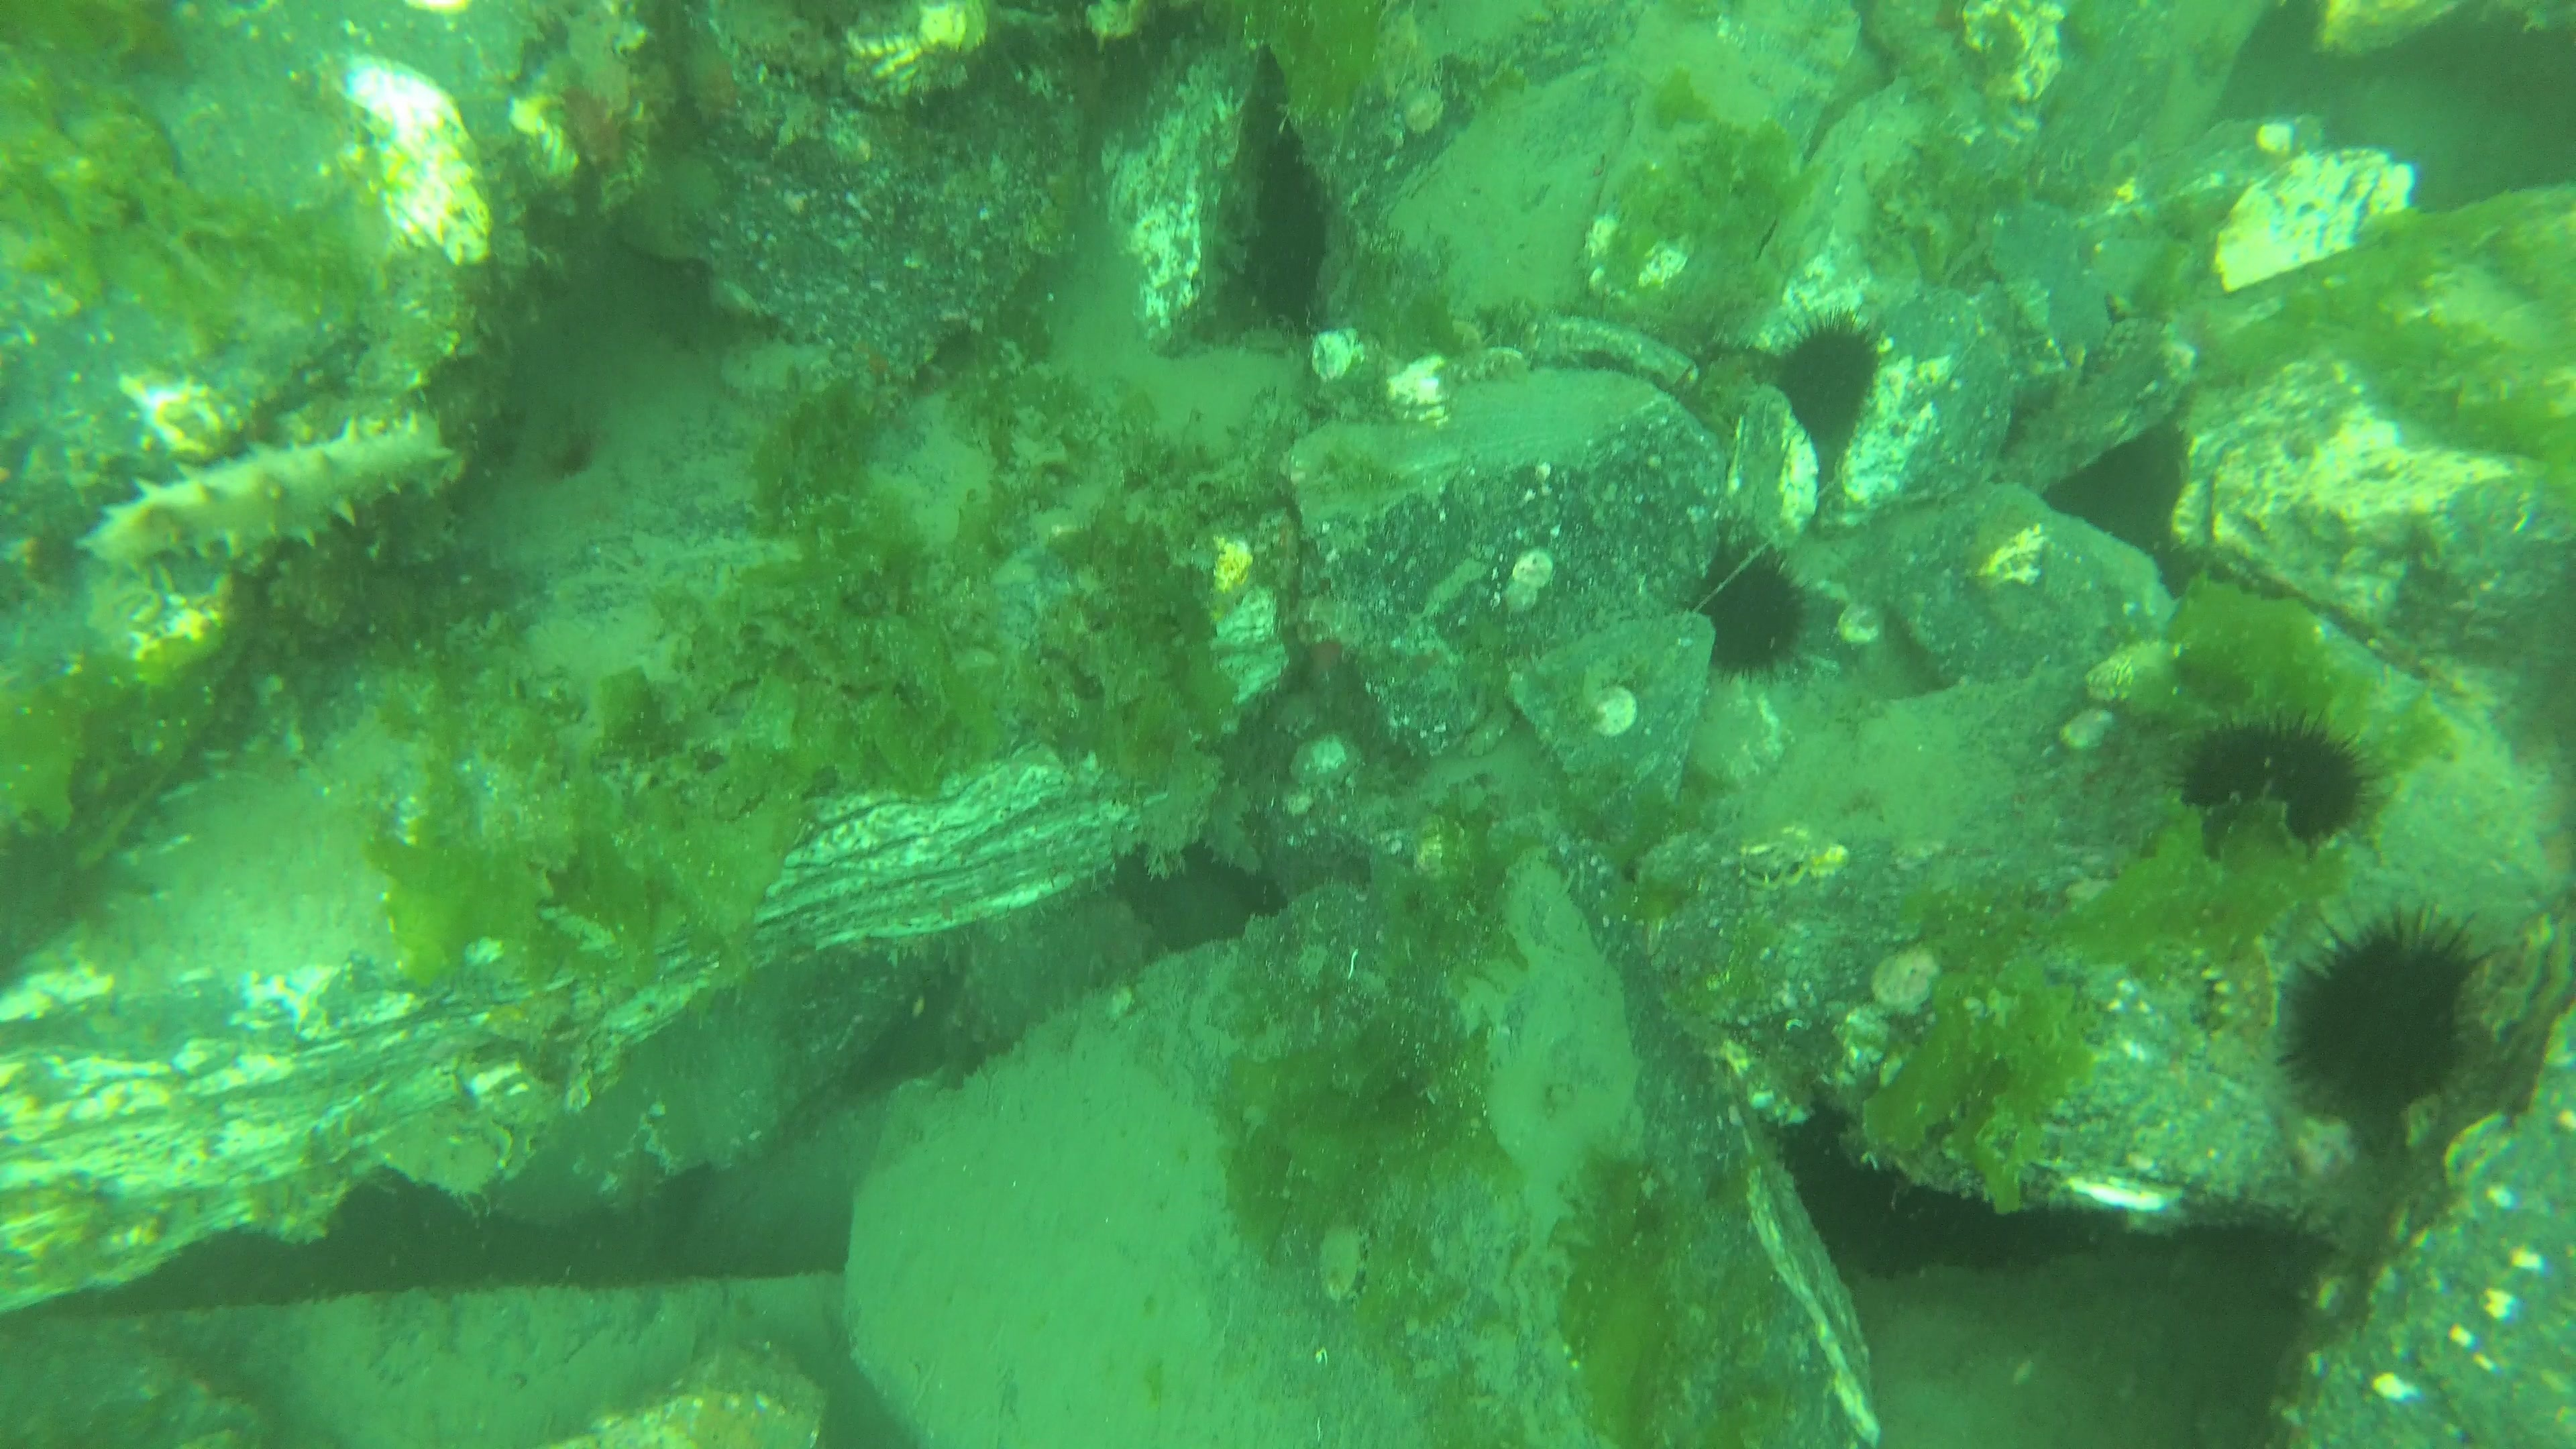echinus: (2275, 892, 2480, 1148), (2171, 706, 2378, 851), (1762, 294, 1886, 455), (1693, 536, 1810, 683)
holothurian: (71, 402, 474, 582)
